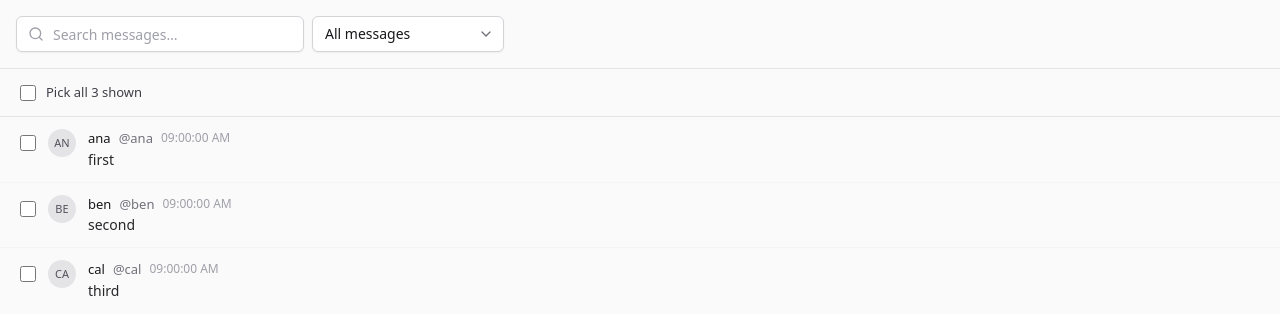
picking chat messages to delete › picks every message shown at once, and lets go of them again
Click the checkbox labelled "Pick all 3 shown": (28, 92) [20,84,36,100]
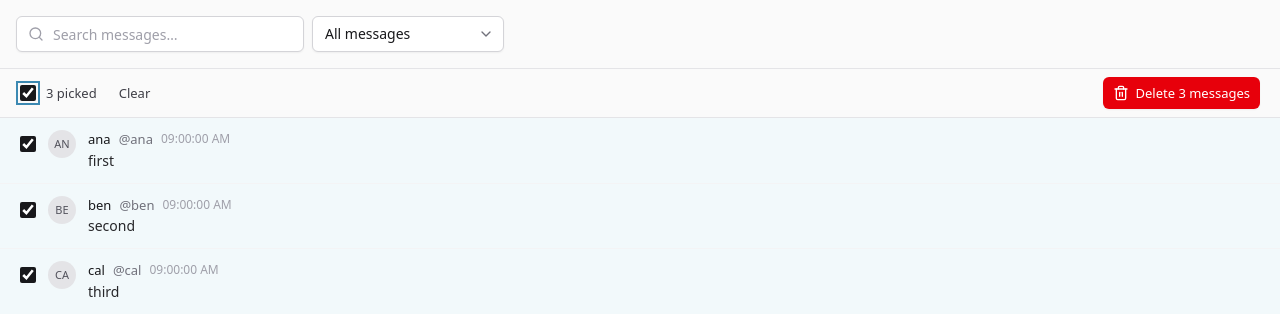
Result: the button "Delete 3 messages" is shown at [1104,77,1260,109]
Click the button "Clear": (134, 93) [109,77,160,109]
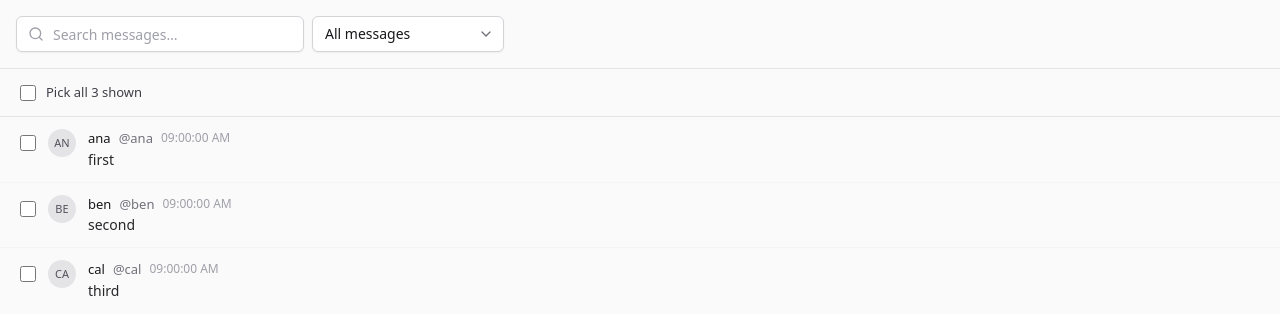
Result: the text "Pick all 3 shown" is shown at [20,83,142,102]
